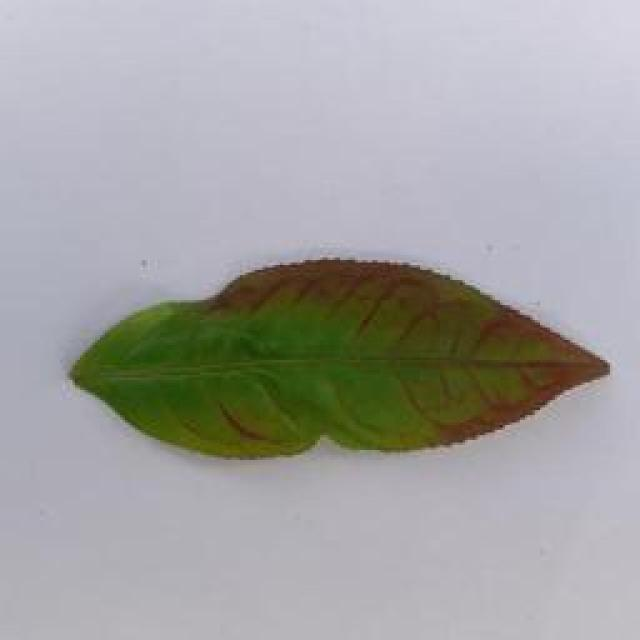Red Leaf Spot: (56, 232, 640, 479)
